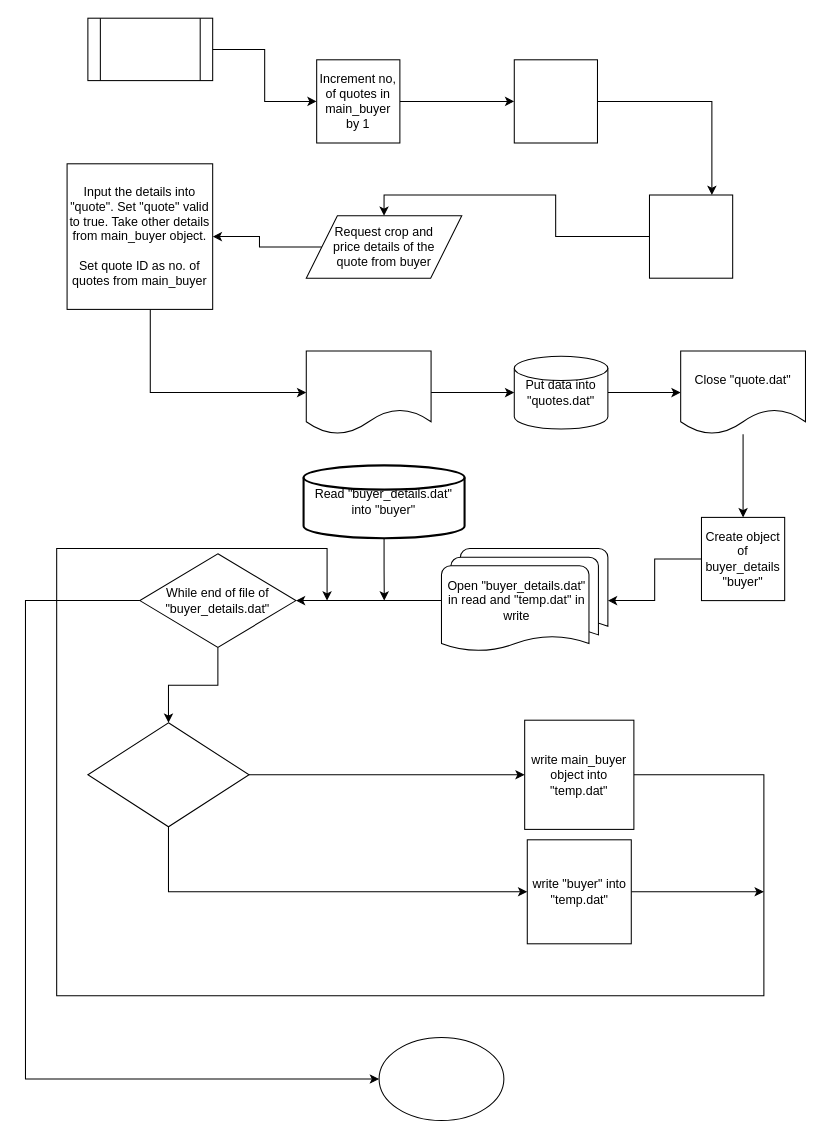
Some shapes in this 824 by 1139 pixel diagram are drawn without their labels. The shapes that lost their labels are listed below. From the top down, each one's centre as x and y in pixels, then its label:
pixel 150 49: Add_quote
pixel 555 101: Create sample object "quote" of structure buyer_quotes
pixel 690 236: Console Clear Screen
pixel 368 392: Open "quote.dat" in append
pixel 168 774: if UserID of buyer = UserID of main_buyer
pixel 441 1078: TERMINATE PROCESS
